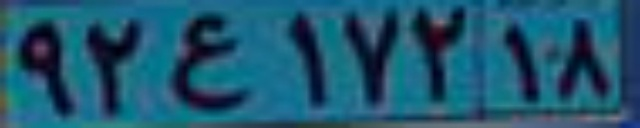1: (285, 14, 325, 105), (498, 23, 540, 101)
2: (81, 18, 147, 116), (410, 6, 465, 101)
7: (341, 5, 399, 104)
8: (553, 18, 612, 99)
9: (12, 16, 75, 116)
ain: (166, 16, 254, 111)
